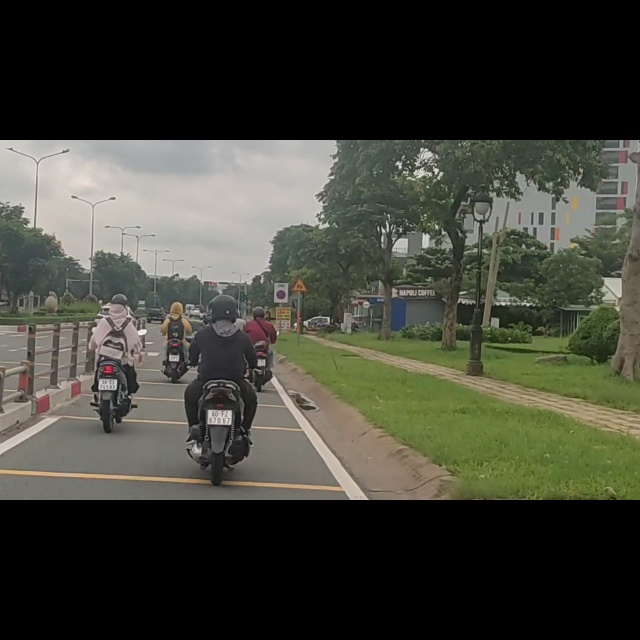bien_nguy_hiem: (291, 245, 307, 269), (276, 267, 287, 284)
